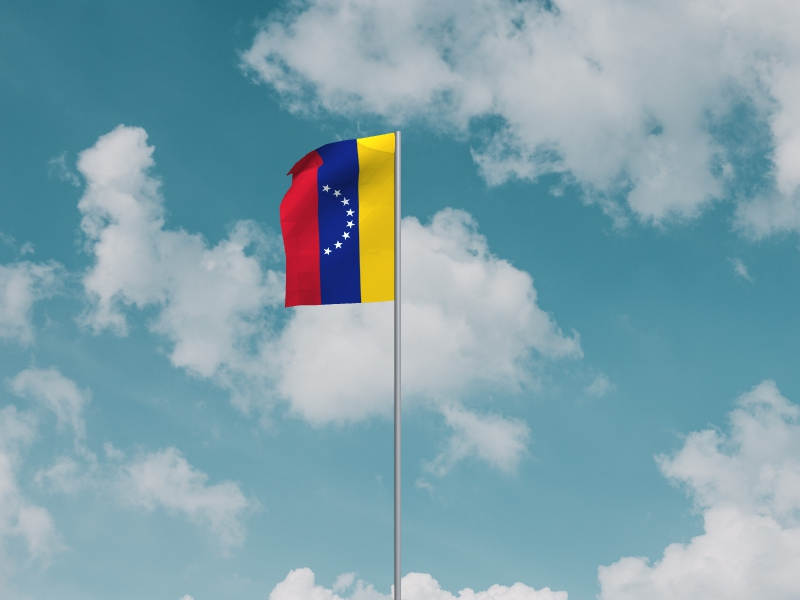ve: (279, 134, 395, 309)
